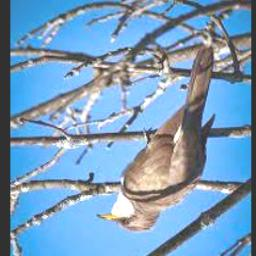Cuckoo: (99, 45, 217, 232)
